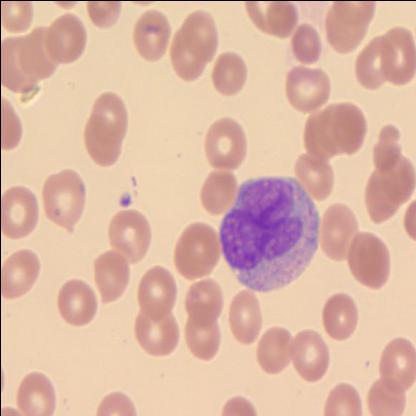Promyelocyte: (218, 173, 317, 293)
